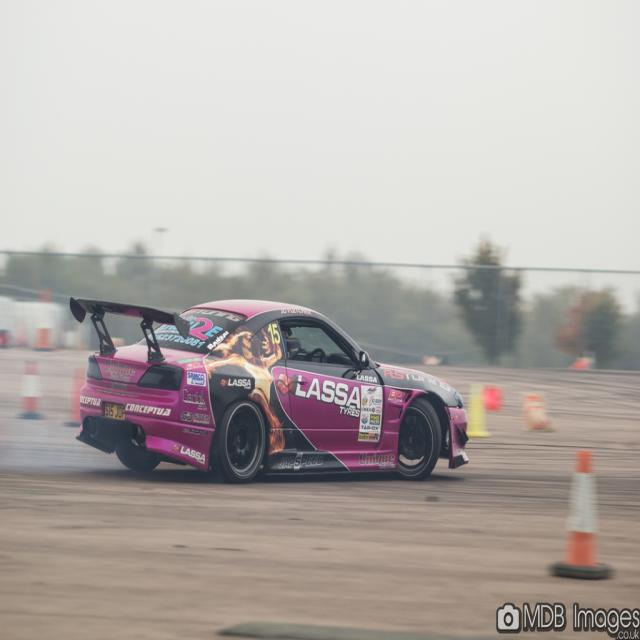car: (70, 292, 470, 485)
